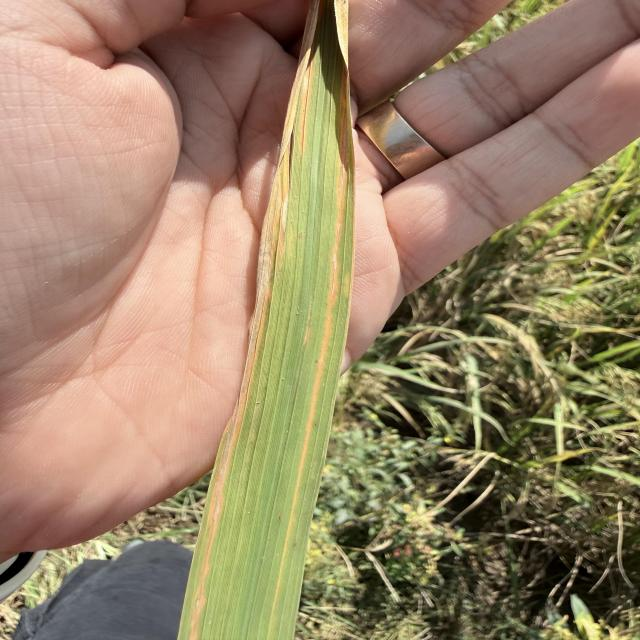Chay bia la: (208, 0, 321, 550), (333, 1, 355, 210)
